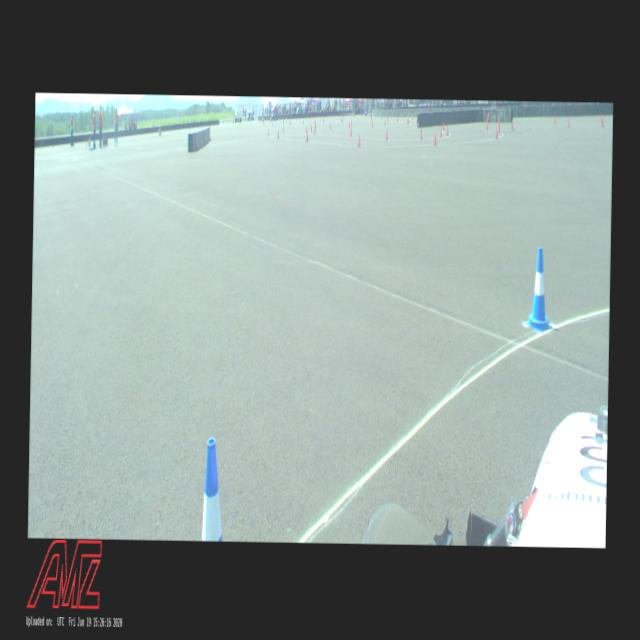blue_cone: (202, 437, 224, 541), (528, 246, 550, 330)
unknown_cone: (433, 132, 436, 146), (495, 126, 498, 138), (439, 126, 442, 137), (446, 125, 449, 135), (358, 133, 360, 146), (420, 128, 422, 140), (349, 128, 352, 136), (510, 118, 512, 129), (386, 128, 388, 139), (329, 122, 332, 129), (602, 116, 604, 126), (442, 120, 444, 130), (567, 118, 569, 126), (498, 124, 500, 132), (486, 122, 488, 130), (306, 124, 308, 132), (306, 132, 308, 140), (276, 130, 278, 138), (310, 124, 312, 131), (348, 121, 350, 128), (314, 122, 316, 129), (302, 118, 304, 124), (314, 128, 316, 134), (282, 119, 284, 124), (554, 115, 555, 123), (601, 114, 602, 122), (498, 117, 499, 125), (268, 128, 269, 136), (407, 116, 408, 124), (262, 120, 264, 124), (384, 118, 385, 125), (351, 119, 352, 126), (408, 117, 409, 123), (397, 116, 398, 122), (387, 115, 388, 121), (340, 116, 341, 122), (322, 116, 323, 122), (283, 126, 284, 132), (289, 120, 290, 125), (264, 121, 265, 125), (381, 115, 382, 119), (370, 116, 371, 120), (314, 120, 315, 124), (285, 118, 286, 122), (269, 120, 270, 124), (232, 119, 233, 122), (488, 114, 488, 122), (412, 114, 412, 119), (372, 120, 372, 128), (342, 118, 342, 122), (272, 122, 272, 125)
